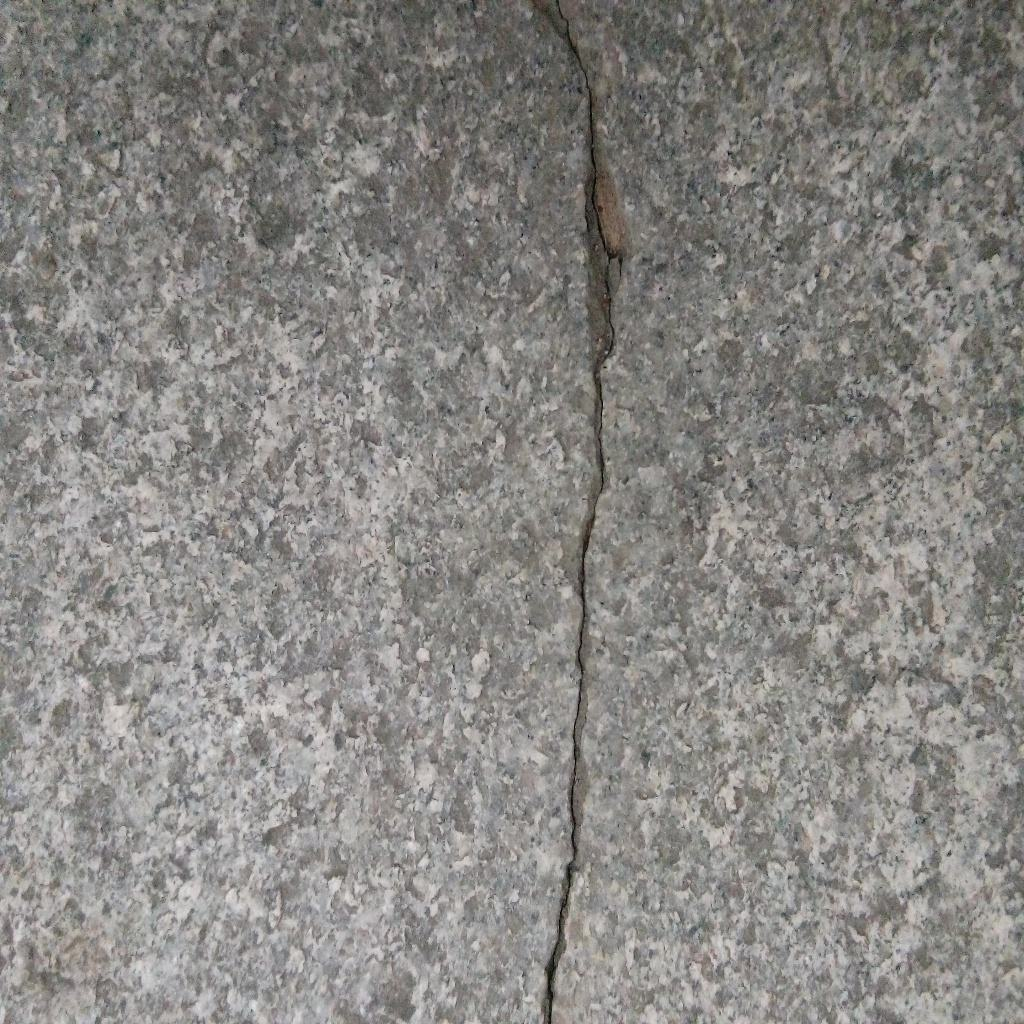Crack: (525, 1, 634, 1024)
